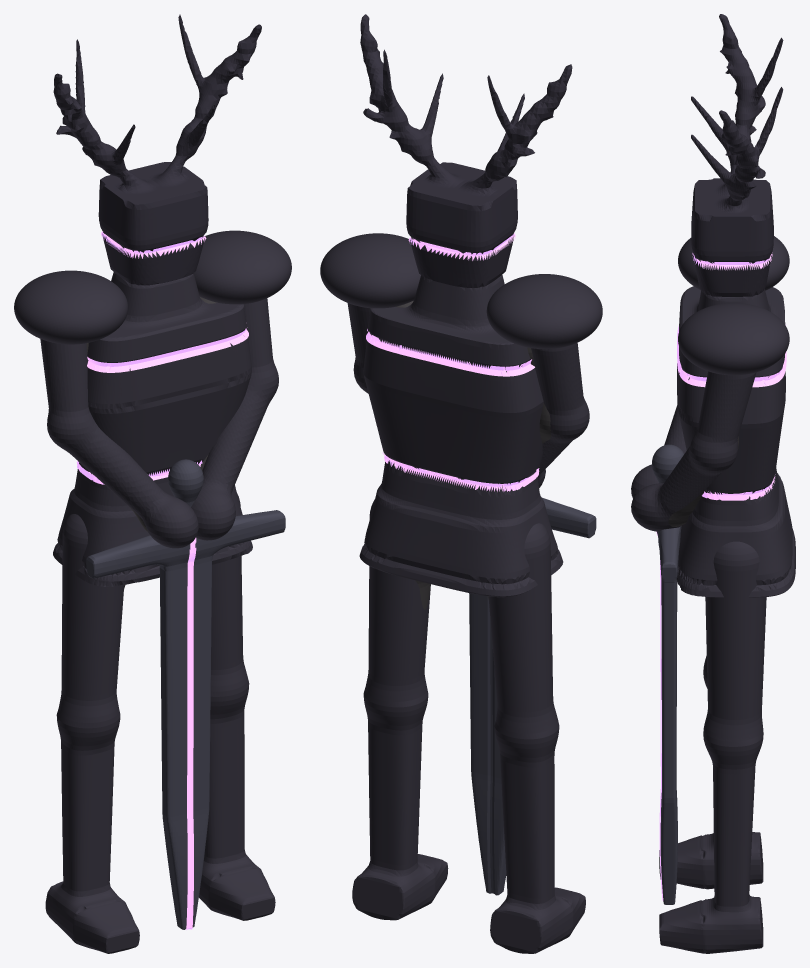
The model's file is knight_antlered.glb.
The picture shows the model from 3 angles, left to right: view 1: azimuth 30°, elevation 25°; view 2: azimuth 150°, elevation 25°; view 3: azimuth 270°, elevation 25°; orthographic projection. The views are drawn at different scales.
Parts seen in each view (by area): view 1: torso_plate, leg_plate_r, sword, helm, leg_plate_l, arm_plate_r, arm_plate_l, pauldron_r, pauldron_l, sword__fuller_rune, torso_plate__rim_trim, helm__visor_line; view 2: torso_plate, leg_plate_r, leg_plate_l, helm, sword, pauldron_r, pauldron_l, arm_plate_r, torso_plate__rim_trim, torso_plate__waist_trim, arm_plate_l, helm__visor_line (+1 smaller); view 3: leg_plate_l, torso_plate, helm, arm_plate_l, sword, pauldron_l, leg_plate_r, pauldron_r, arm_plate_r, torso_plate__rim_trim, sword__fuller_rune, helm__visor_line (+2 smaller).
Boxes of the visible parts, x1,y1,x2,y2 form: torso_plate: [53, 272, 252, 586]; leg_plate_r: [45, 514, 139, 953]; sword: [86, 459, 285, 929]; helm: [53, 14, 261, 285]; leg_plate_l: [199, 493, 275, 920]; arm_plate_r: [40, 339, 198, 548]; arm_plate_l: [191, 298, 278, 540]; pauldron_r: [14, 270, 127, 344]; pauldron_l: [194, 230, 291, 304]; sword__fuller_rune: [186, 537, 196, 929]; torso_plate__rim_trim: [87, 327, 248, 372]; helm__visor_line: [101, 231, 206, 258]; torso_plate: [359, 275, 563, 597]; leg_plate_r: [488, 523, 585, 953]; leg_plate_l: [352, 499, 448, 920]; helm: [360, 14, 572, 287]; sword: [469, 497, 596, 895]; pauldron_r: [486, 274, 602, 349]; pauldron_l: [320, 233, 420, 308]; arm_plate_r: [531, 342, 589, 487]; torso_plate__rim_trim: [366, 329, 534, 376]; torso_plate__waist_trim: [382, 449, 539, 491]; arm_plate_l: [347, 303, 370, 393]; helm__visor_line: [408, 233, 515, 260]; leg_plate_l: [659, 541, 766, 953]; torso_plate: [676, 286, 795, 597]; helm: [691, 14, 783, 296]; arm_plate_l: [631, 371, 756, 531]; sword: [652, 444, 683, 904]; pauldron_l: [678, 303, 789, 375]; leg_plate_r: [659, 656, 763, 889]; pauldron_r: [678, 236, 789, 290]; arm_plate_r: [631, 405, 686, 498]; torso_plate__rim_trim: [677, 324, 786, 387]; sword__fuller_rune: [656, 531, 663, 900]; helm__visor_line: [692, 252, 772, 270].
Size of the model in its own units: 0.9298 by 2.95 by 0.5164.
